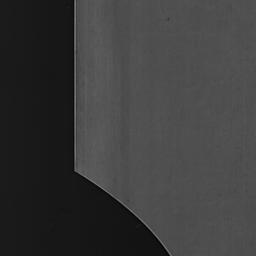Crescent gap: (75, 172, 168, 256)
